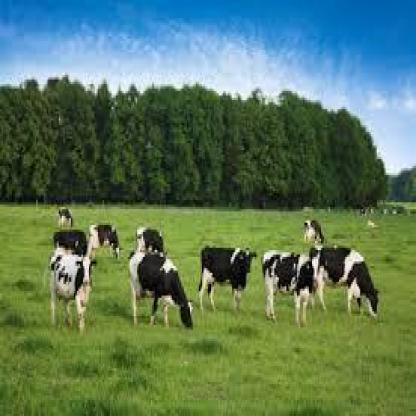cow: (127, 249, 197, 331), (309, 245, 380, 320), (260, 250, 322, 327), (46, 248, 99, 334), (196, 246, 258, 314), (85, 224, 123, 265), (52, 230, 90, 259), (136, 227, 164, 257), (303, 218, 326, 246), (56, 204, 74, 230)
